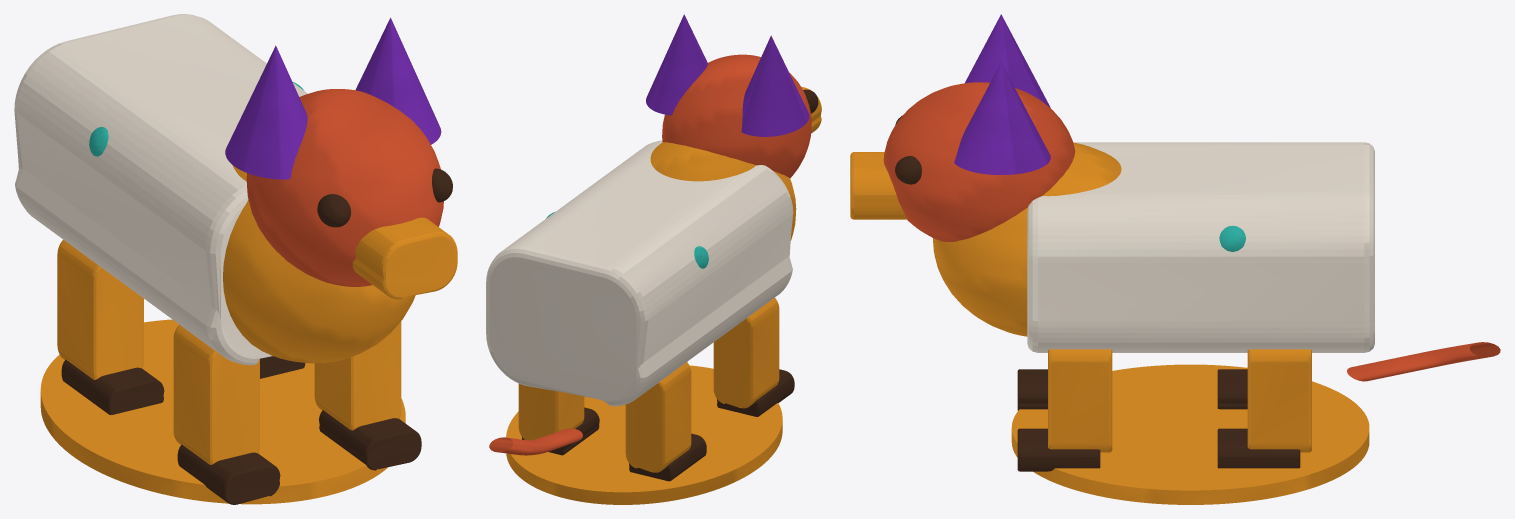
The model's file is 1310_中国古代寓言_牛.glb.
3 renders of one model, left to right at view 1: azimuth 30°, elevation 25°; view 2: azimuth 150°, elevation 25°; view 3: azimuth 270°, elevation 25°, orthographic. The views are drawn at different scales.
Parts seen in each view (by area): view 1: card_1310; view 2: card_1310; view 3: card_1310.
Part boxes in pixels (x1,y1,x2,y2): card_1310: [14, 14, 457, 504]; card_1310: [486, 14, 821, 504]; card_1310: [850, 14, 1500, 504].
Size of the model in its own units: 0.6691 by 1 by 1.46.
